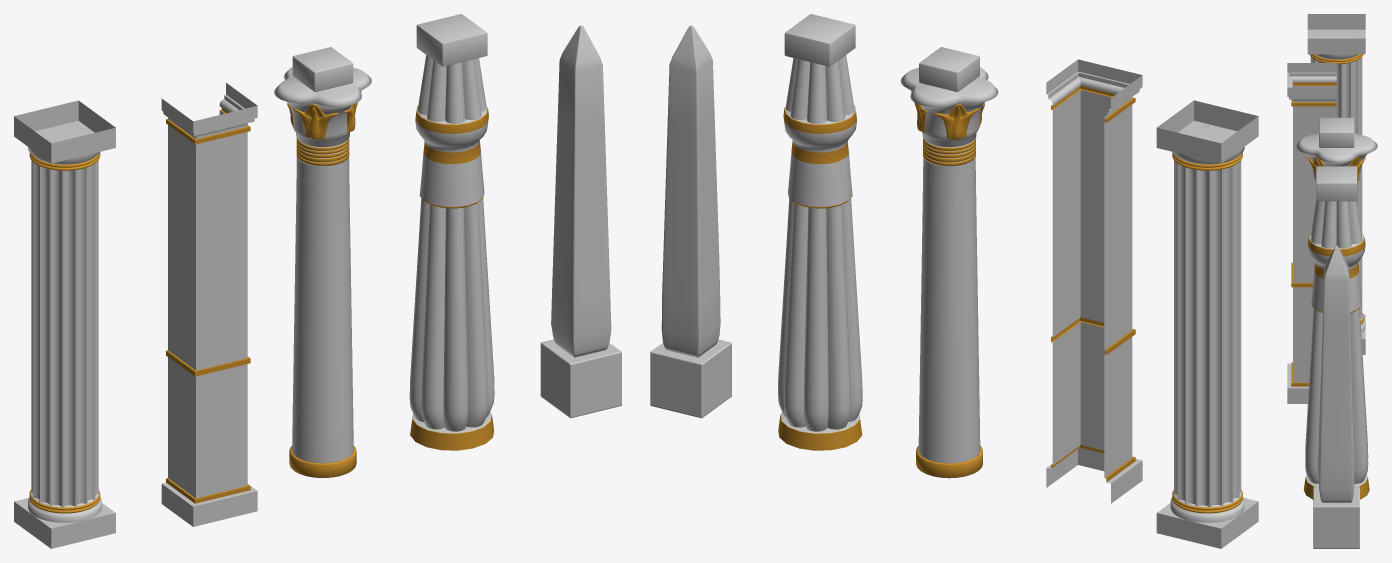
File: Columns.fbx
The picture shows the model from 3 angles, left to right: view 1: azimuth 30°, elevation 25°; view 2: azimuth 150°, elevation 25°; view 3: azimuth 270°, elevation 25°; orthographic projection. The views are drawn at different scales.
Parts seen in each view (by area): view 1: Column_2, Column_1, Column_4, Column_3, Obelisk_of_Theodosius; view 2: Column_2, Column_1, Column_4, Column_3, Obelisk_of_Theodosius; view 3: Column_4, Obelisk_of_Theodosius, Column_2, Column_1, Column_3.
Boxes of the visible parts, x1=… form: Column_2: x1=161, y1=83, x2=257, y2=526; Column_1: x1=14, y1=100, x2=115, y2=548; Column_4: x1=409, y1=14, x2=494, y2=450; Column_3: x1=274, y1=47, x2=371, y2=477; Obelisk_of_Theodosius: x1=540, y1=25, x2=621, y2=418; Column_2: x1=1046, y1=59, x2=1142, y2=503; Column_1: x1=1156, y1=100, x2=1258, y2=548; Column_4: x1=778, y1=14, x2=862, y2=450; Column_3: x1=900, y1=47, x2=998, y2=478; Obelisk_of_Theodosius: x1=650, y1=25, x2=731, y2=418; Column_4: x1=1303, y1=166, x2=1369, y2=499; Obelisk_of_Theodosius: x1=1313, y1=246, x2=1359, y2=548; Column_2: x1=1287, y1=63, x2=1336, y2=403; Column_1: x1=1307, y1=14, x2=1365, y2=354; Column_3: x1=1296, y1=117, x2=1377, y2=184.
Size of the model in its own units: 890 by 600 by 155.
